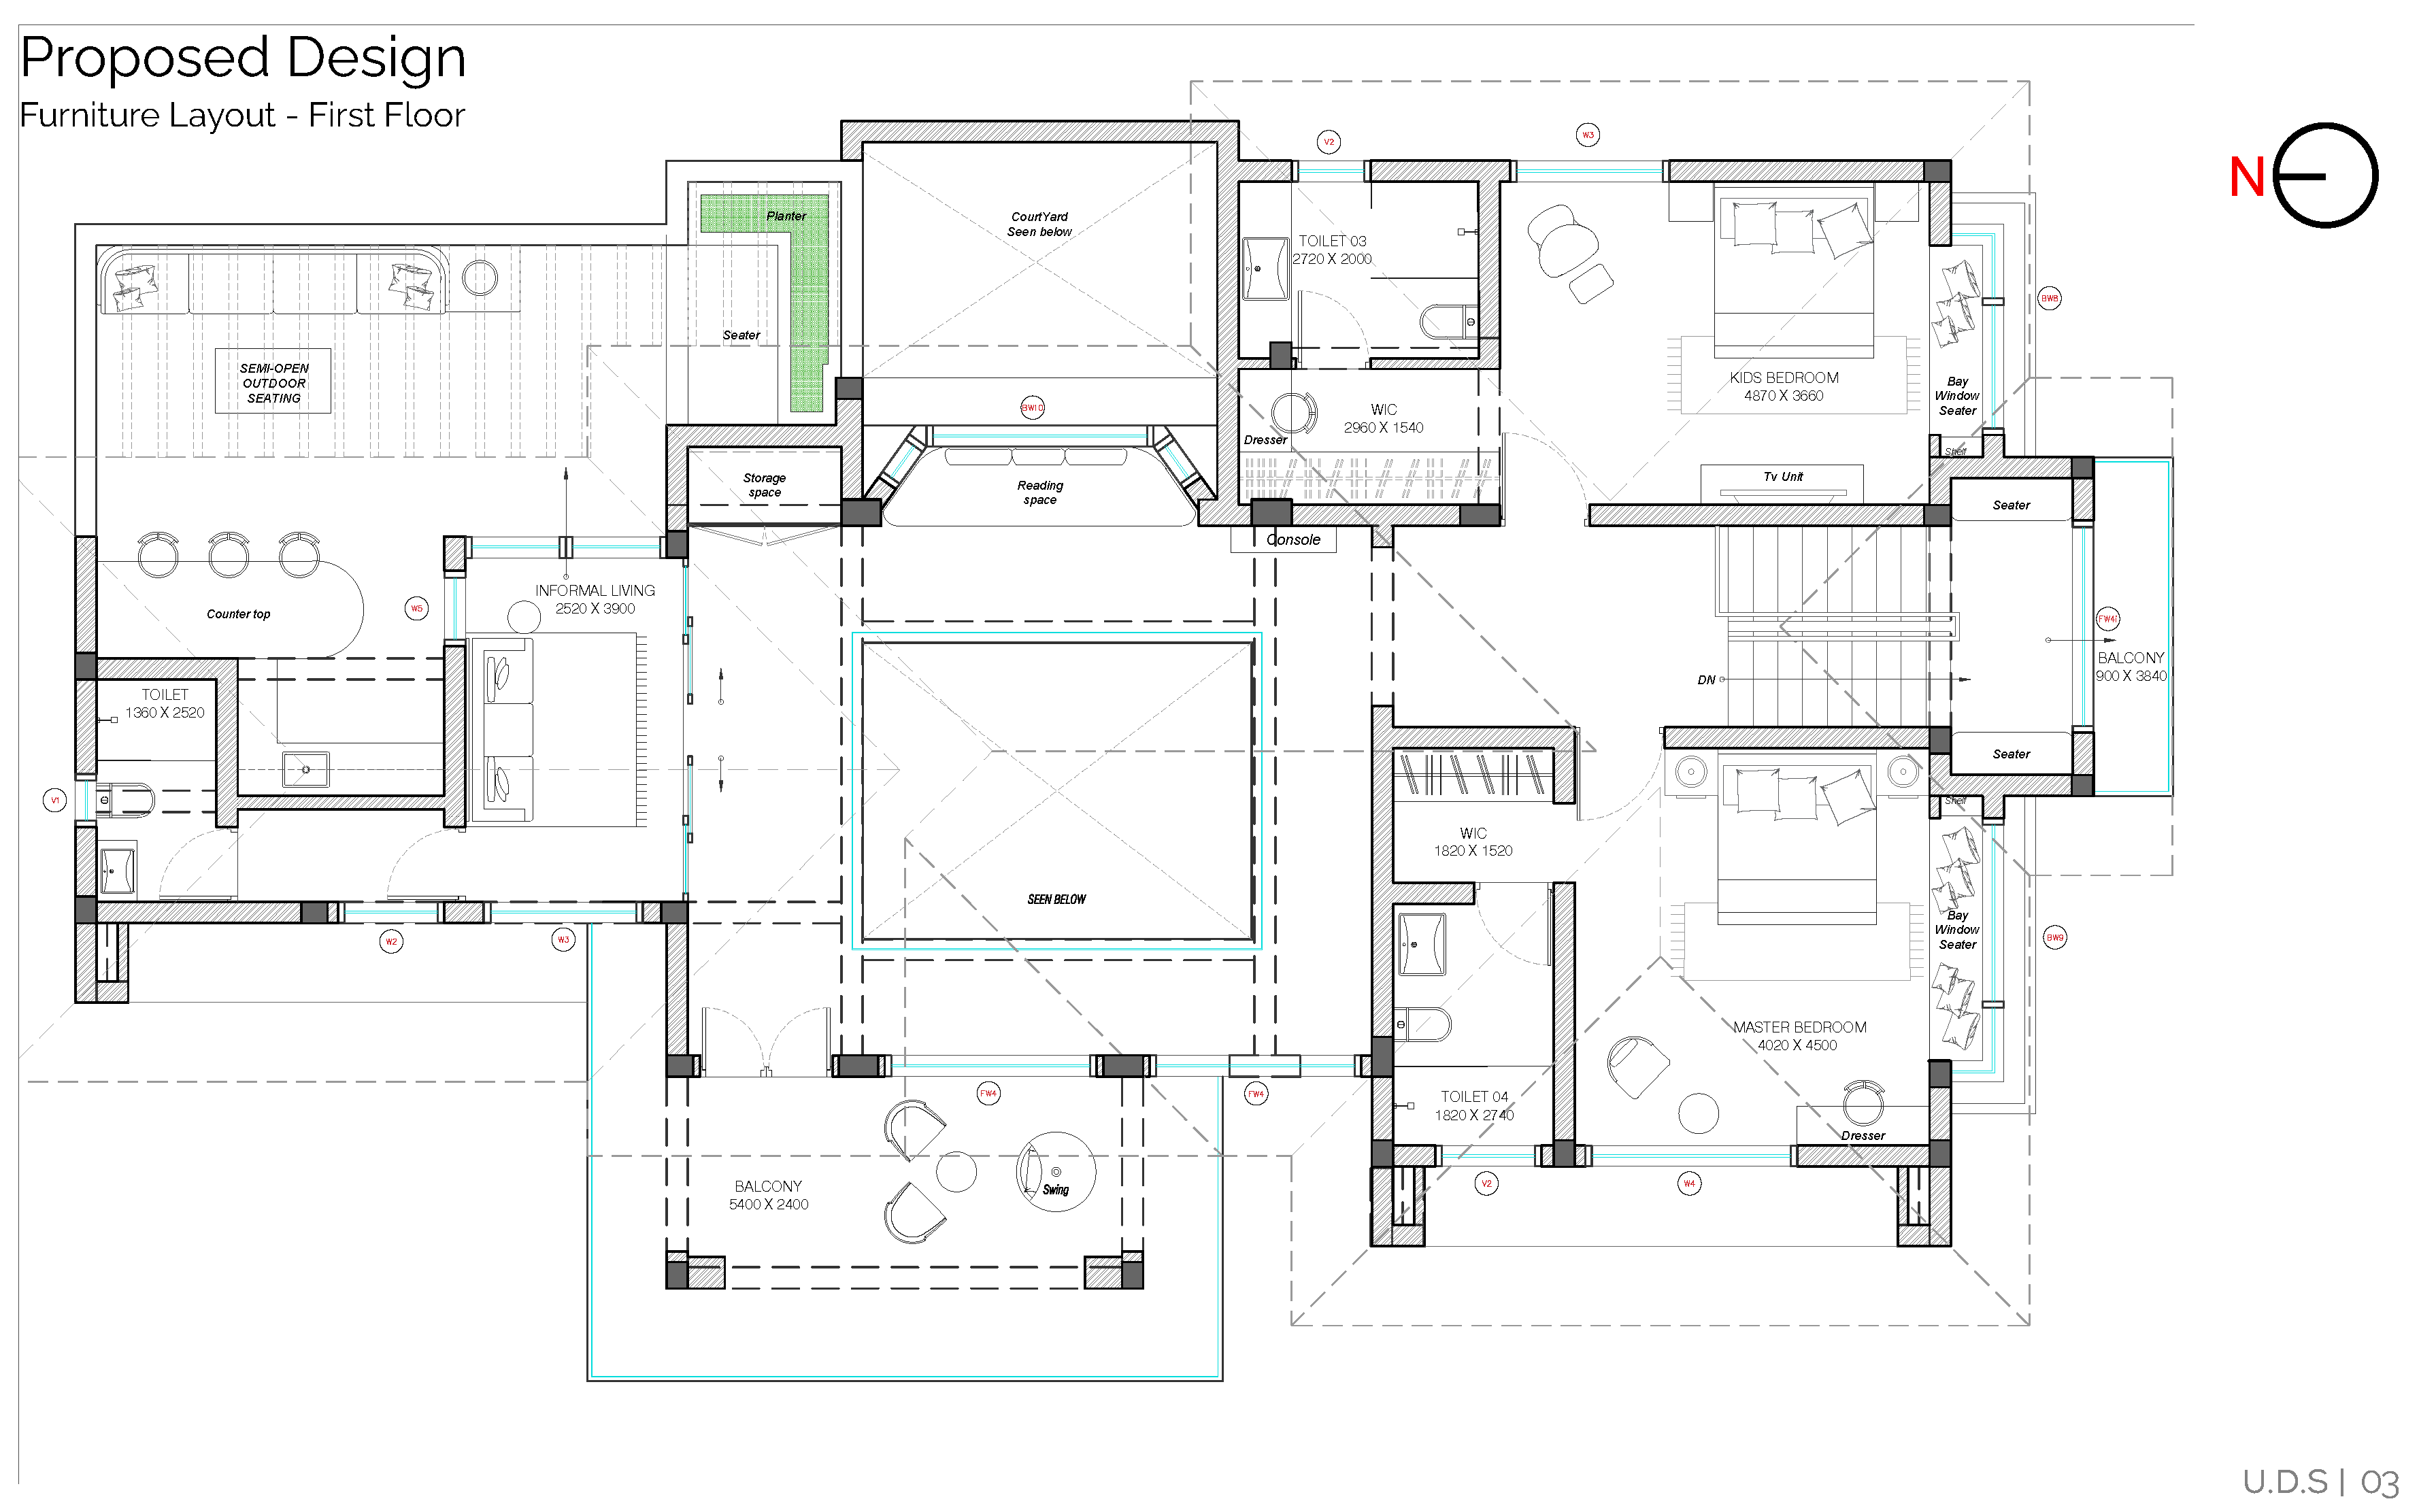door: (1499, 429, 1595, 521), (1573, 733, 1668, 824), (1473, 885, 1553, 972), (1296, 286, 1372, 366), (158, 827, 235, 904), (387, 827, 460, 908), (700, 1003, 768, 1078), (768, 1003, 834, 1078)
